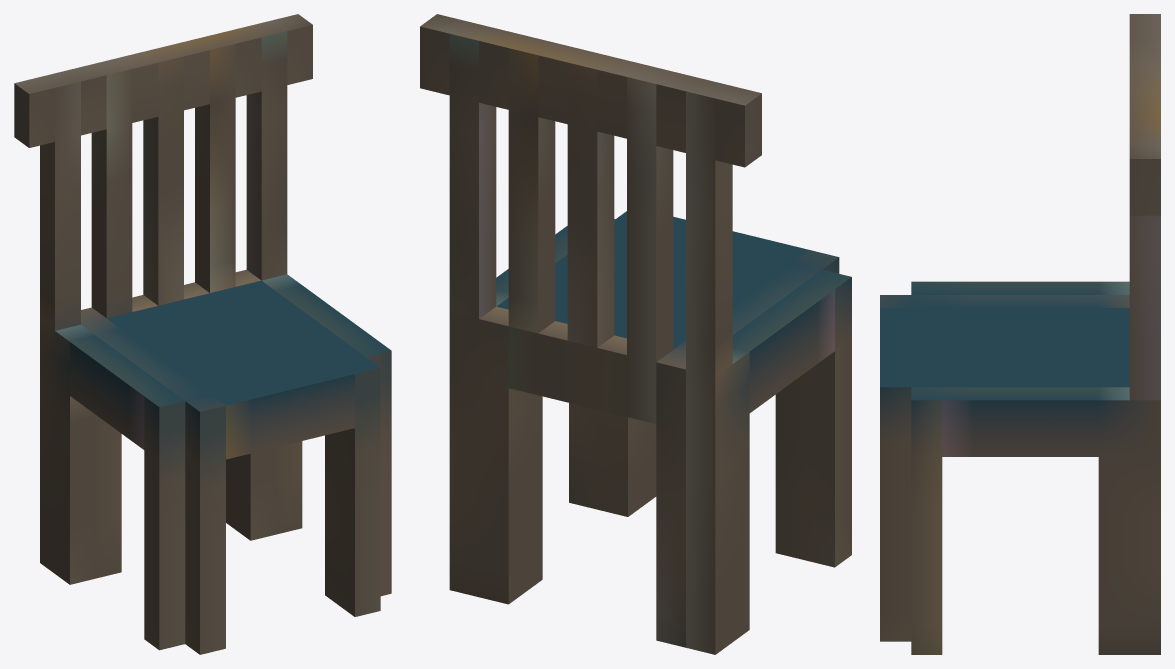
File: ChairDarkBrownWithBlueSeat_02.obj
3 views of the same model, side by side, from view 1: azimuth 30°, elevation 25°; view 2: azimuth 150°, elevation 25°; view 3: azimuth 270°, elevation 25° (orthographic). The views are drawn at different scales.
Parts seen in each view (by area): view 1: ChairDarkBrownWithBlueSeat_02; view 2: ChairDarkBrownWithBlueSeat_02; view 3: ChairDarkBrownWithBlueSeat_02.
Part boxes in pixels (bbox=[...]): ChairDarkBrownWithBlueSeat_02: bbox=[14, 14, 391, 654]; ChairDarkBrownWithBlueSeat_02: bbox=[420, 14, 851, 654]; ChairDarkBrownWithBlueSeat_02: bbox=[880, 14, 1160, 654].
Bounding box in the file's own units: 0.55 × 0.9 × 0.45.
